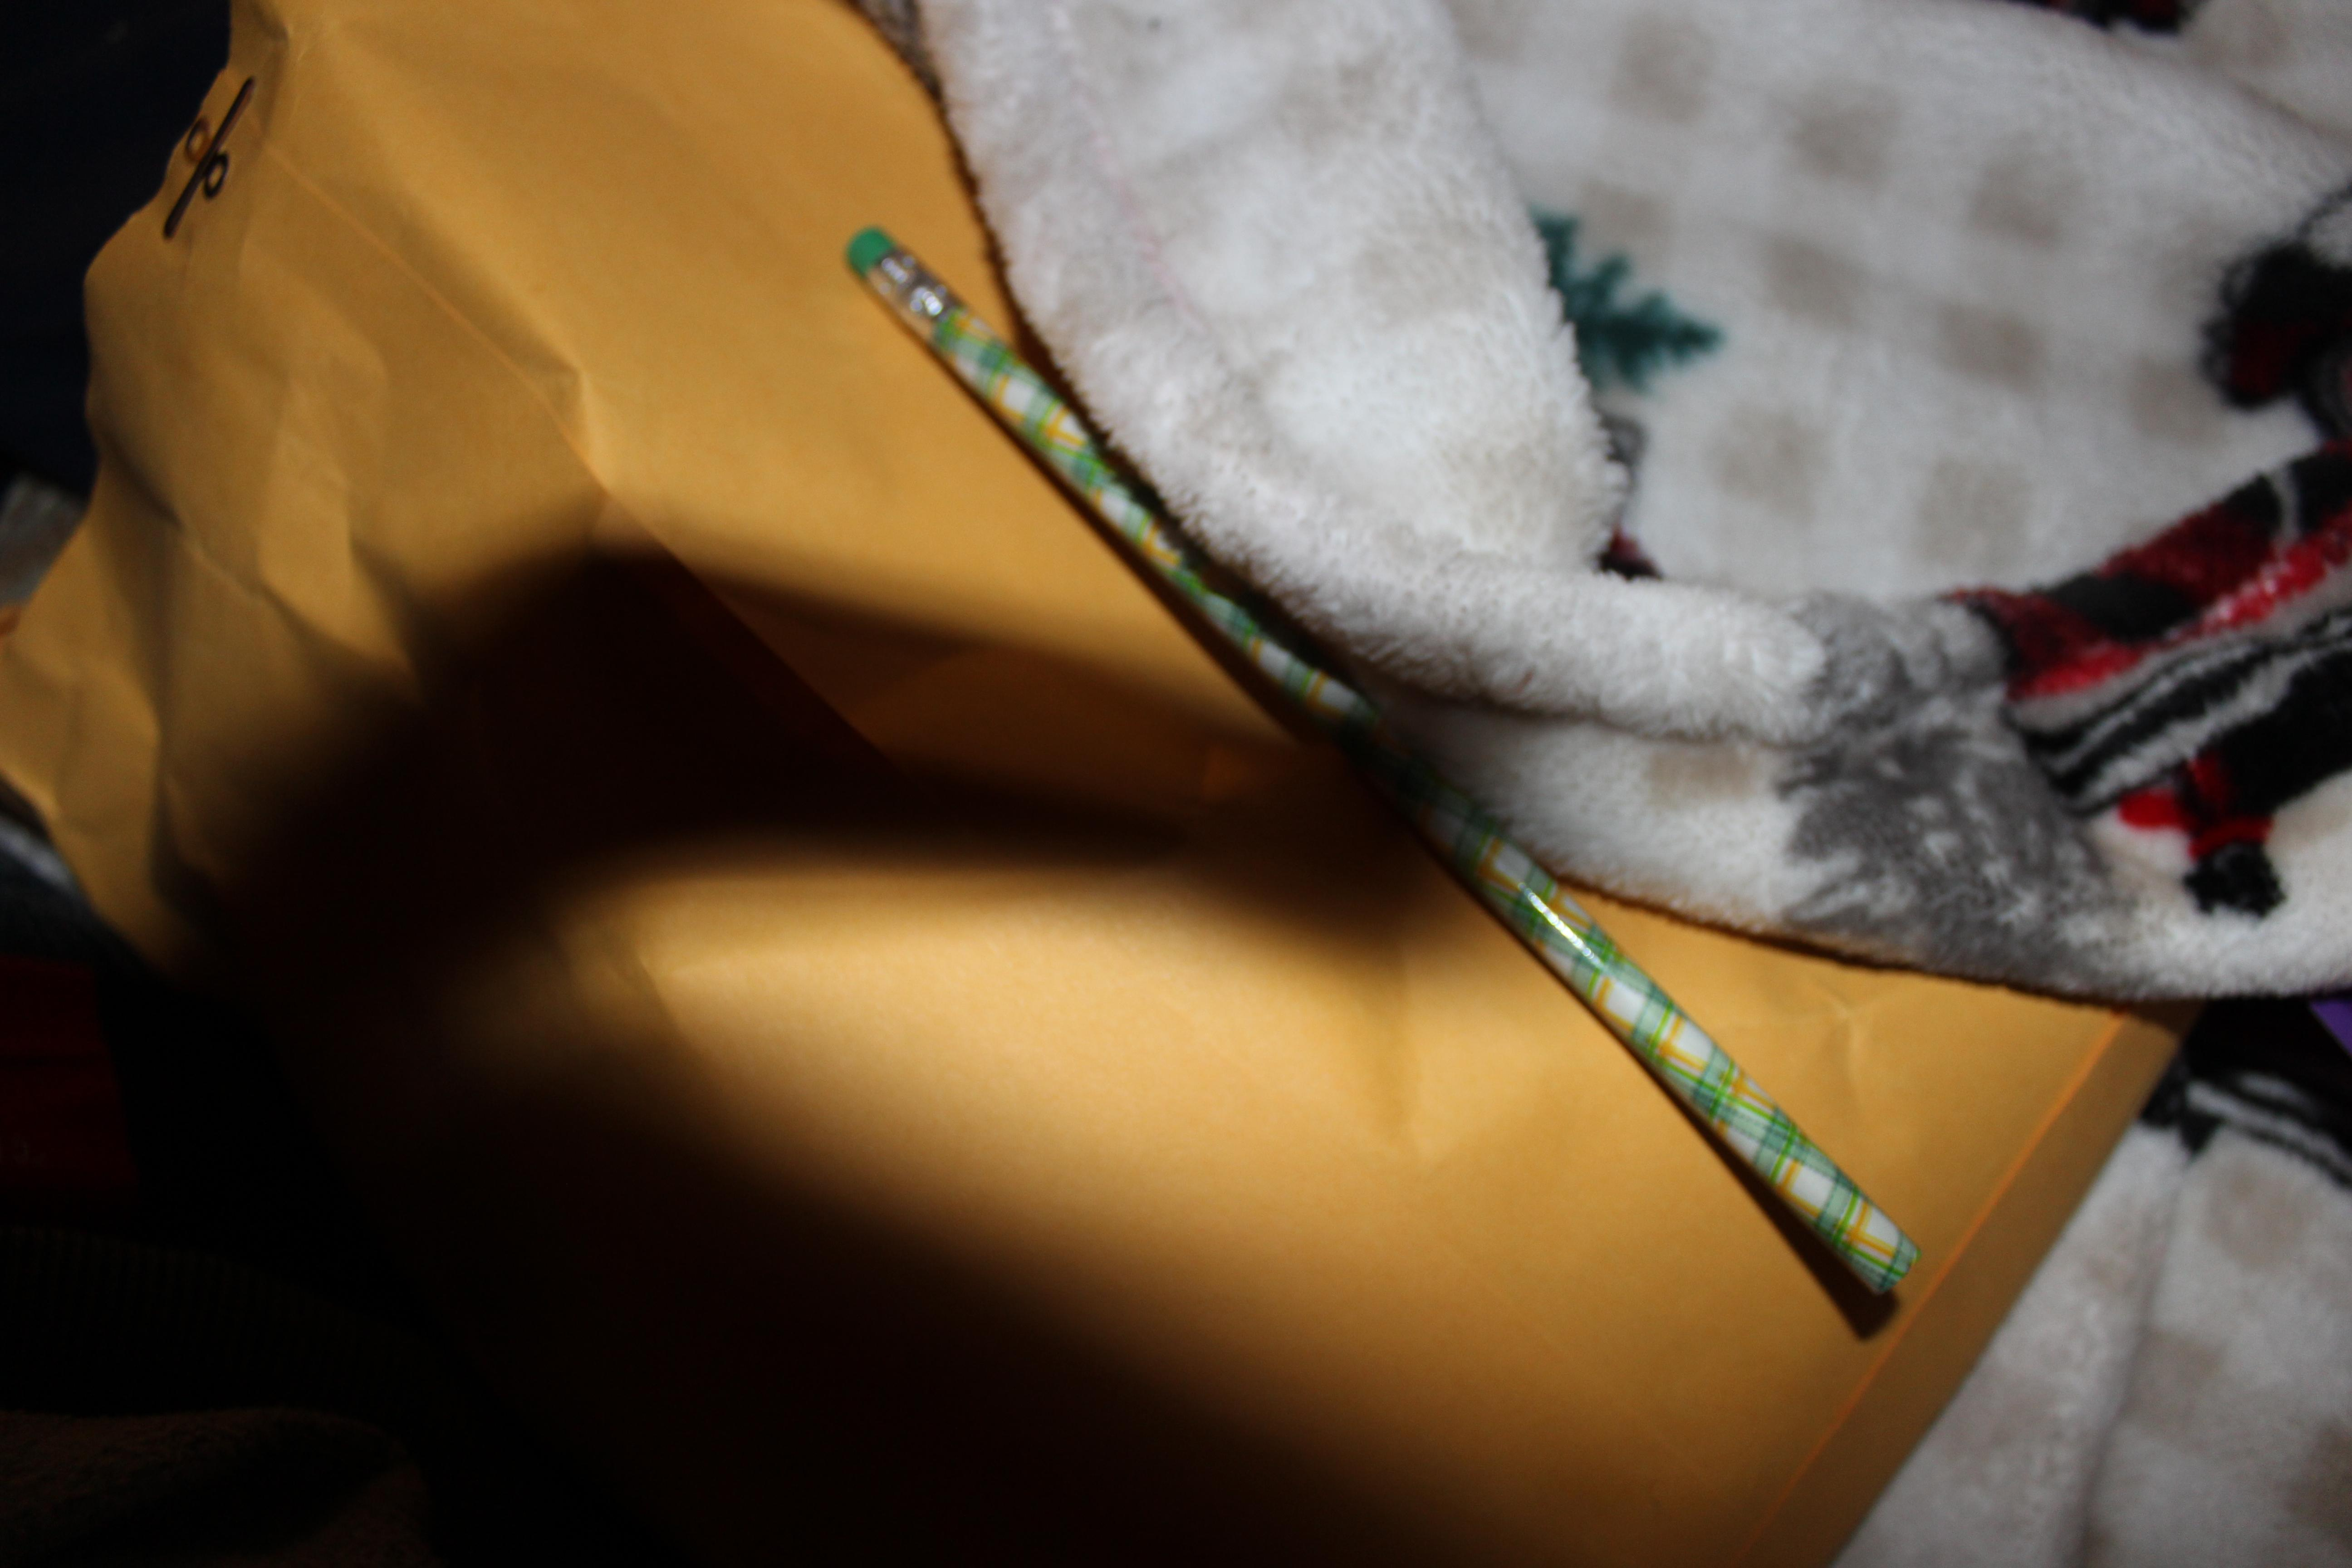plaidPencil: (819, 201, 1944, 1354)
